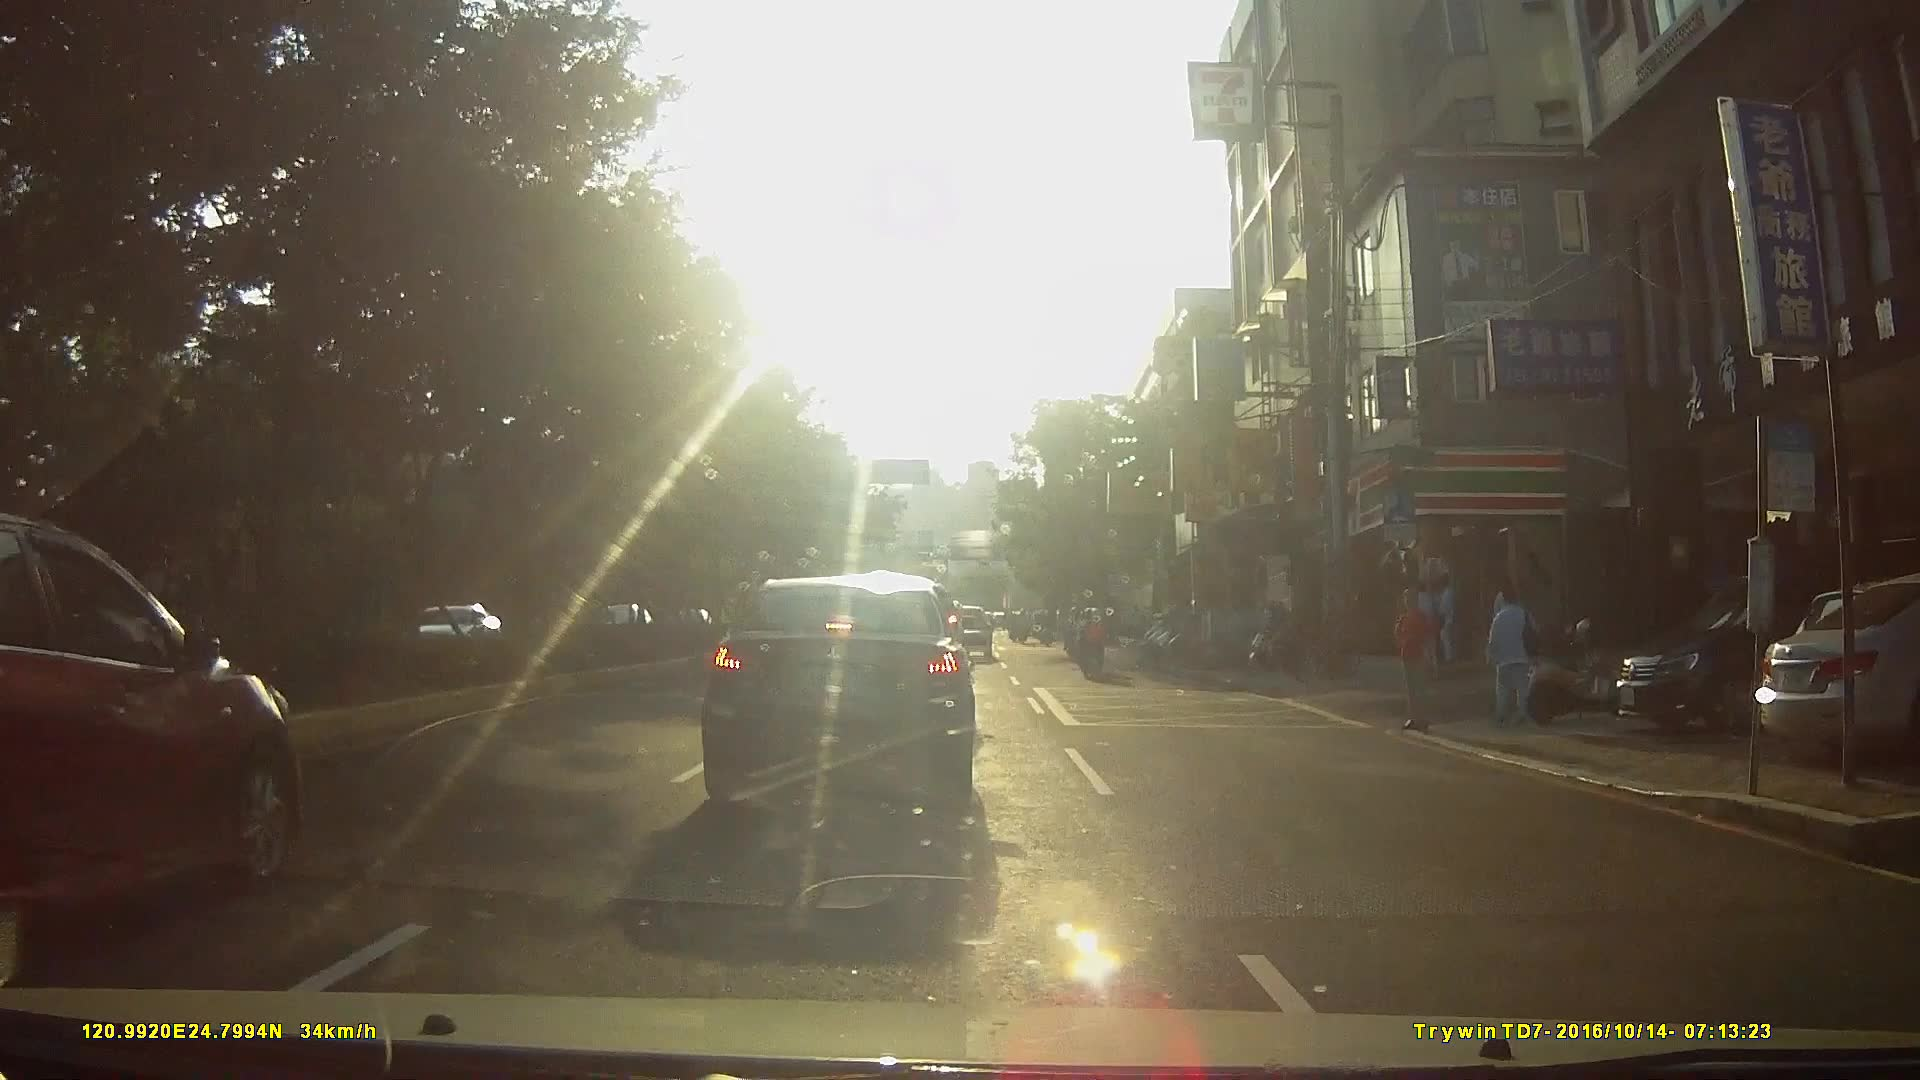pedestrian: (1479, 585, 1541, 726), (1397, 589, 1437, 736)
rider: (1073, 605, 1111, 681), (1062, 606, 1087, 659)
vehicle: (1, 506, 311, 954), (698, 574, 990, 780), (1605, 559, 1917, 741), (1745, 575, 1920, 767)
